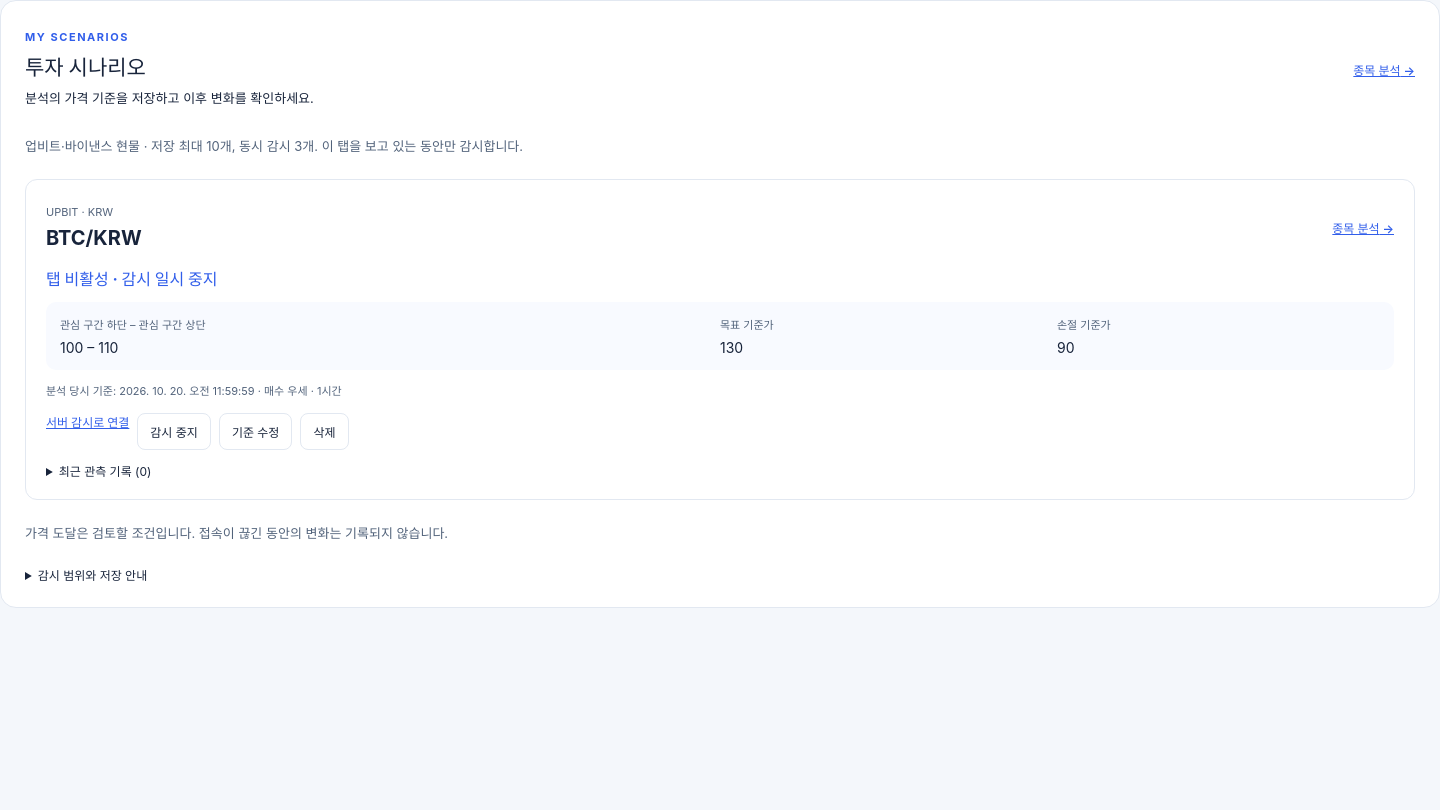
Test: scenario review workflow › blocks an edit if another tab changes the source and preserves that tab’s value
Click the button "기준 수정" at (256, 431), box [219,413,292,450]
(page scrolled)
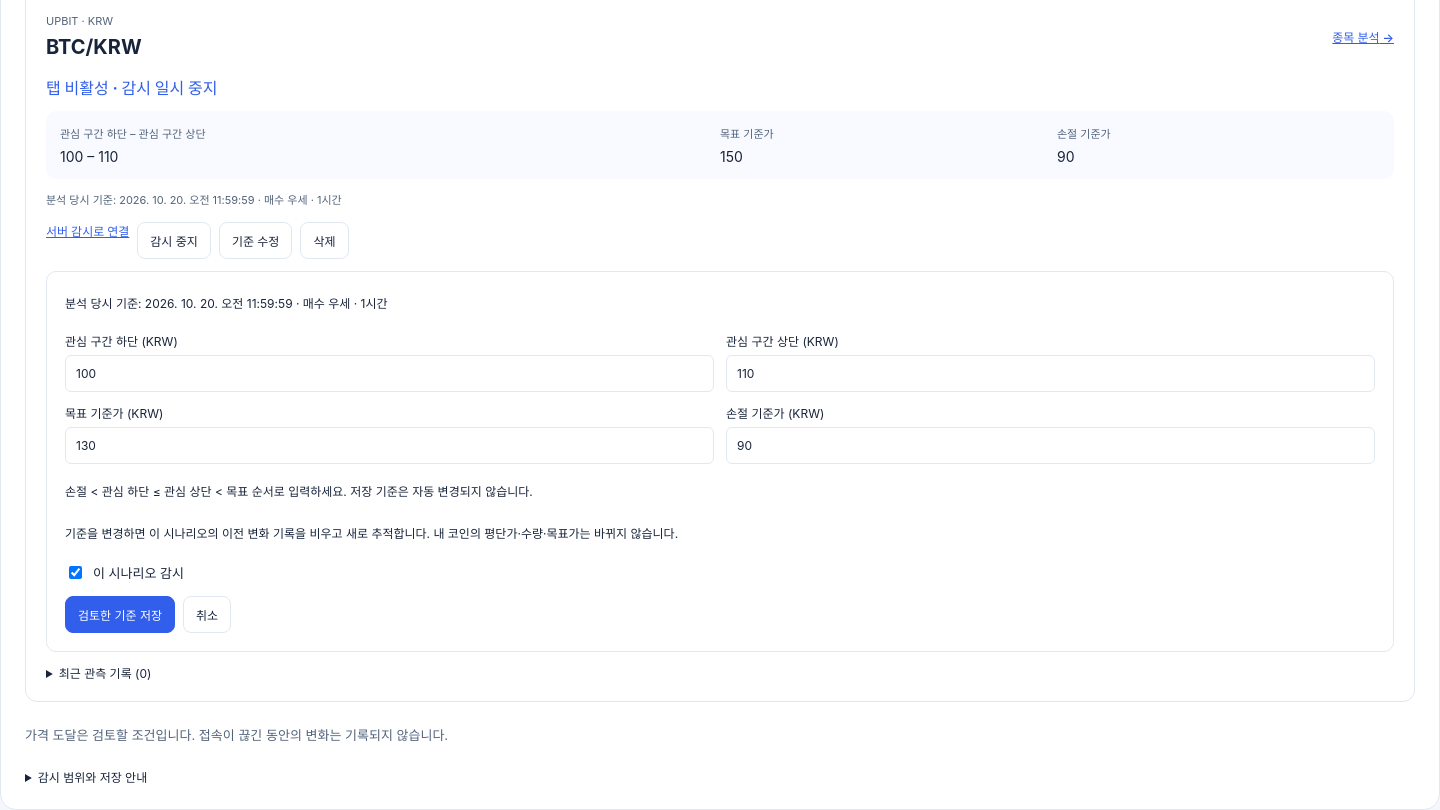
Click the button "검토한 기준 저장" at (120, 614), box [65,596,175,633]
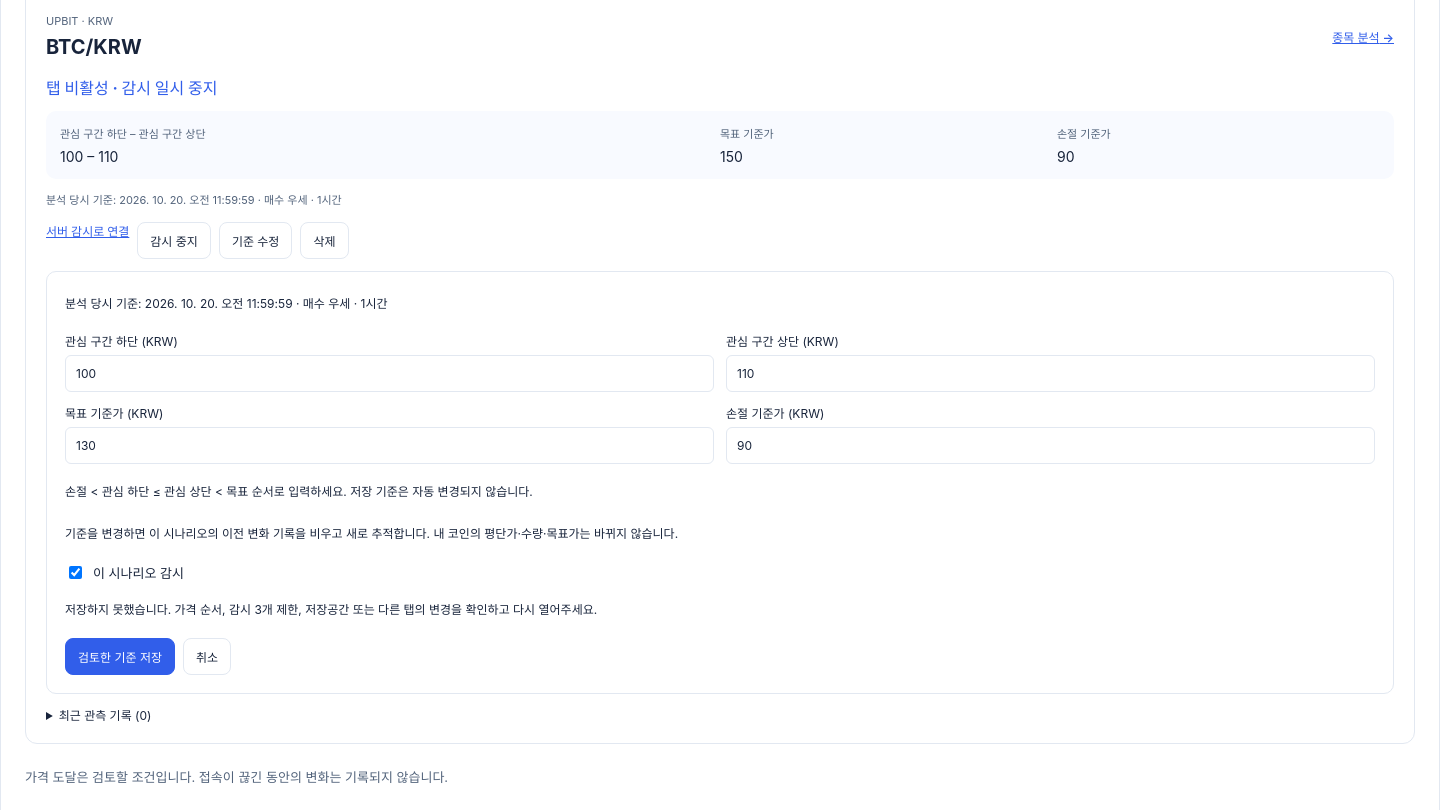
expect the message shows "저장하지 못했습니다": met, box [65,602,597,617]
